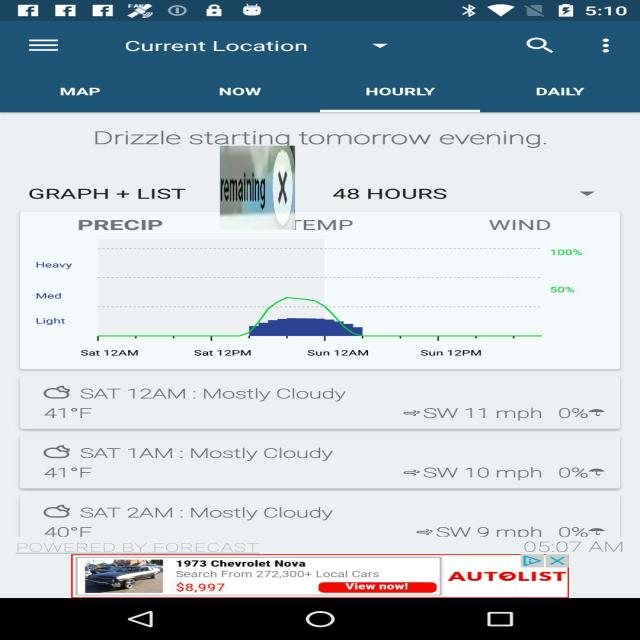misdirection: (220, 146, 295, 230)
